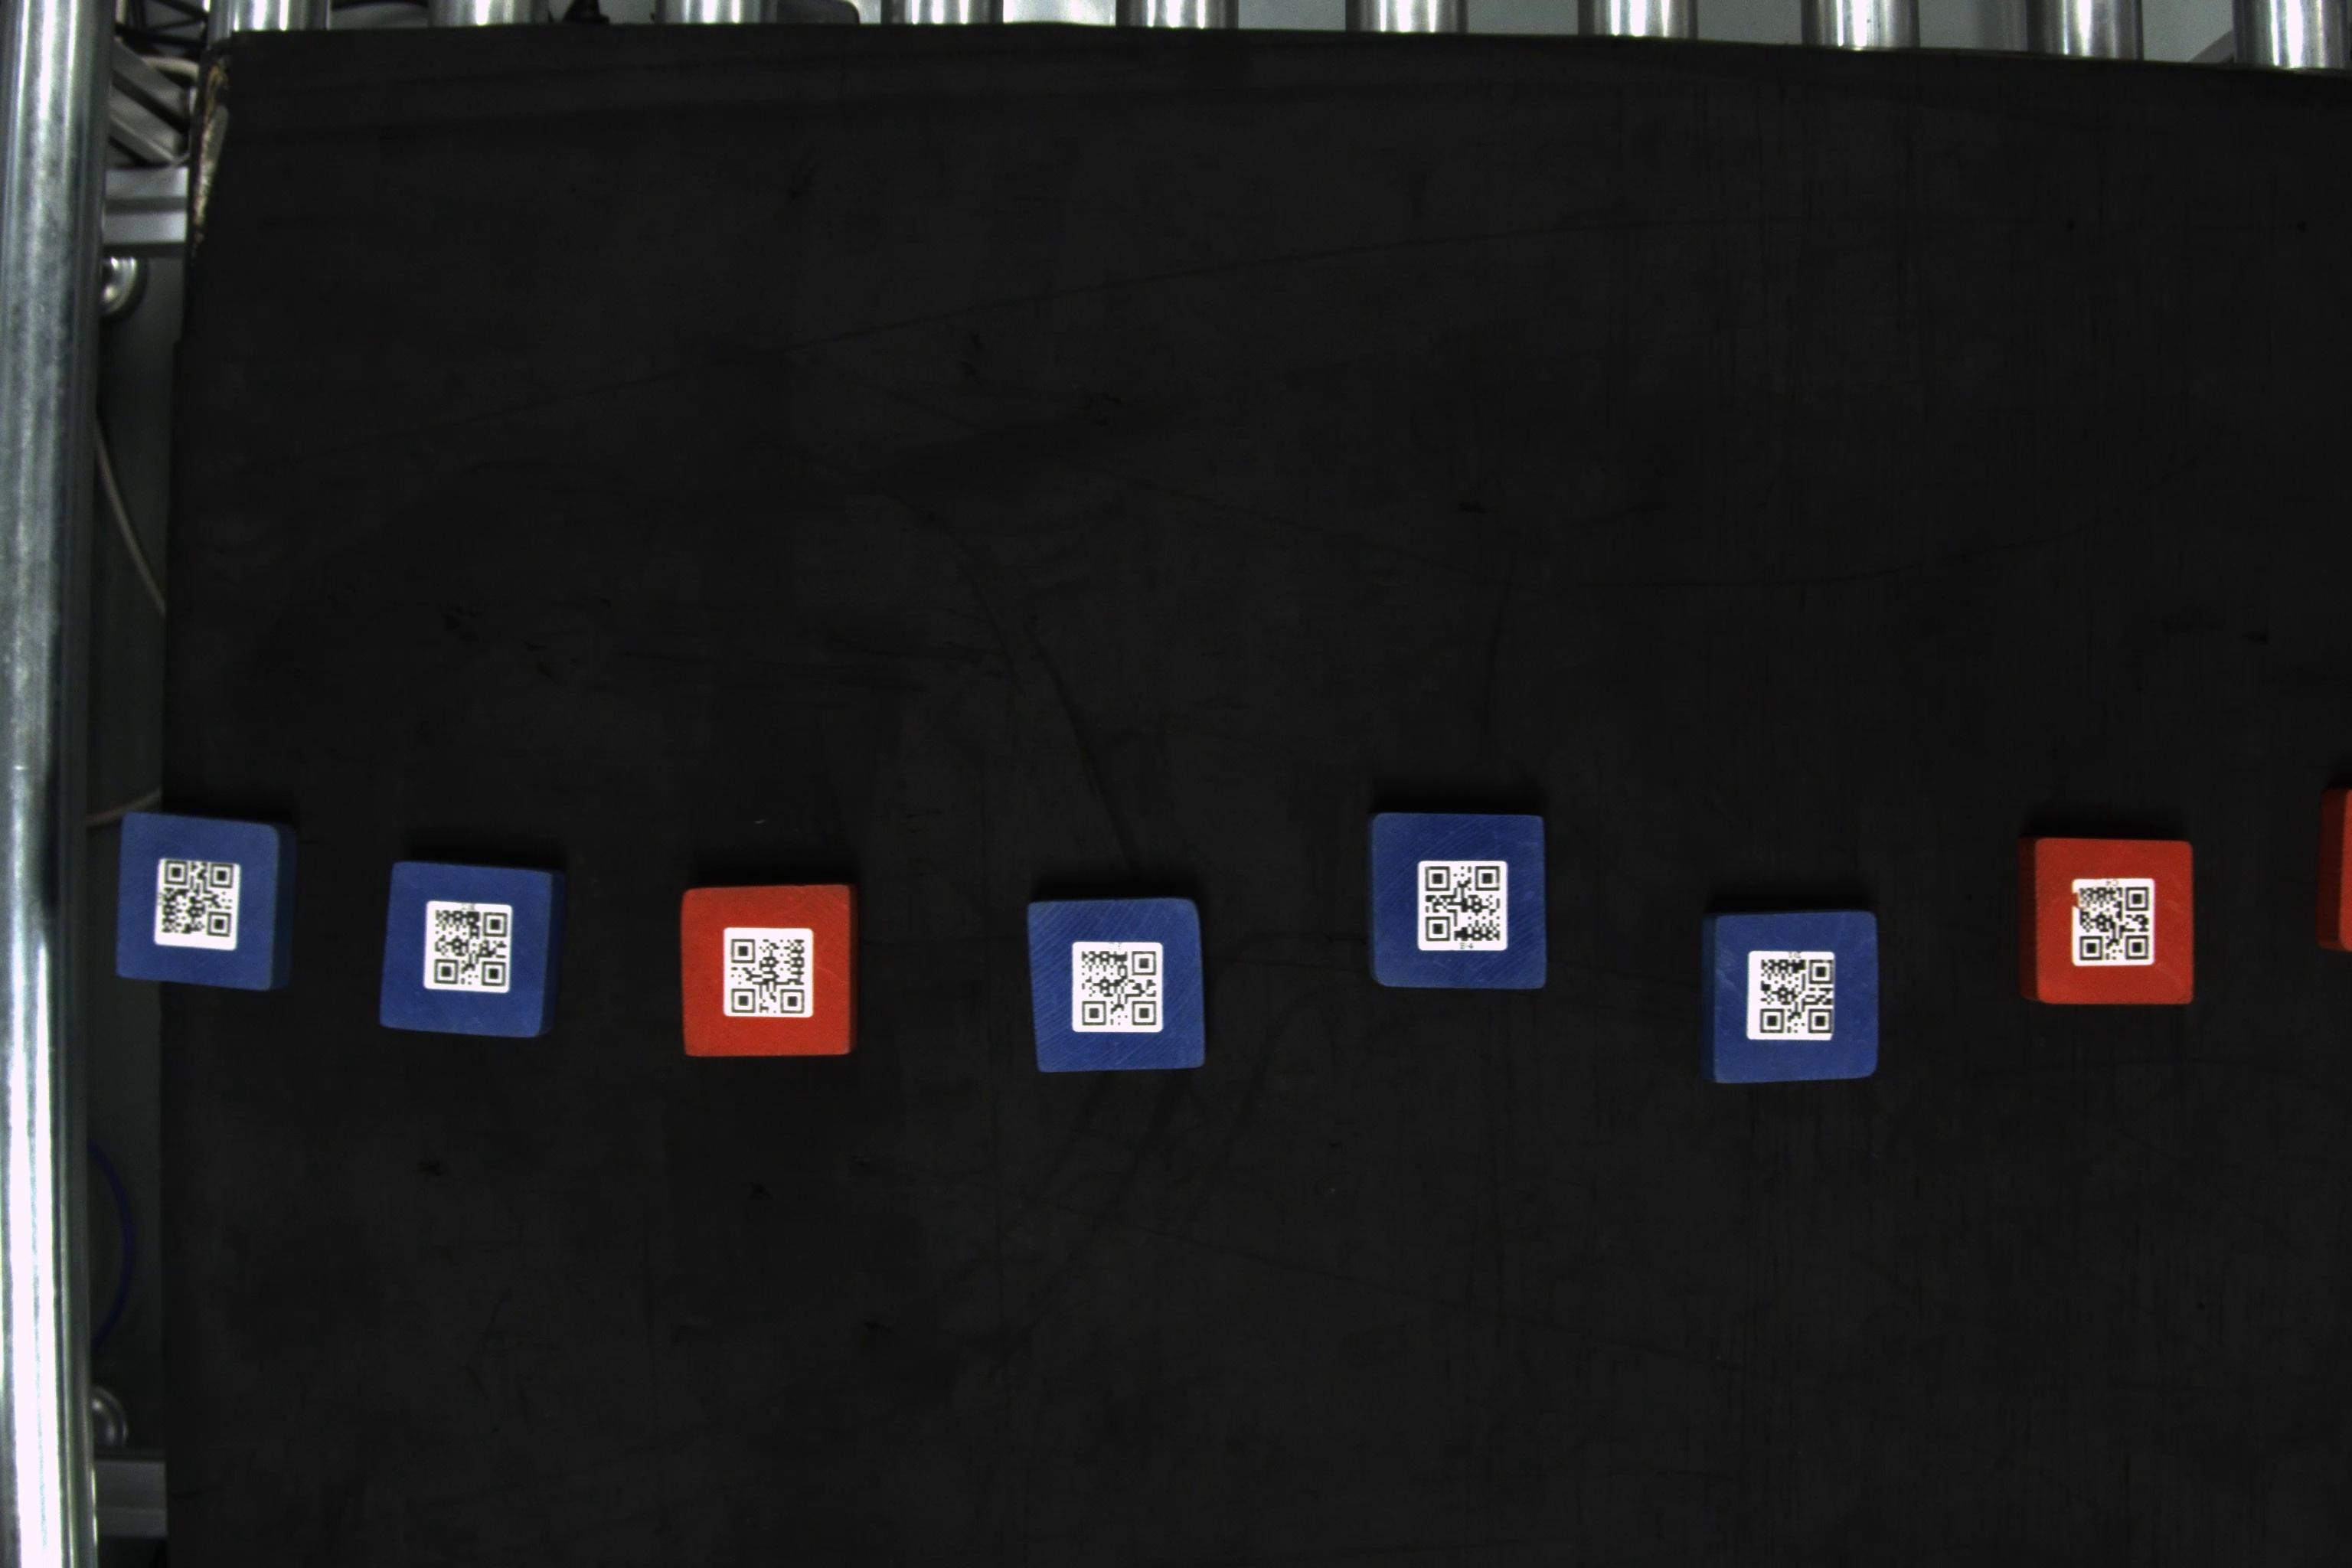wood: (112, 807, 301, 997), (380, 856, 570, 1043), (1367, 805, 1552, 990), (2014, 833, 2203, 1011), (681, 882, 866, 1062), (1022, 899, 1207, 1078), (1704, 906, 1883, 1087)
